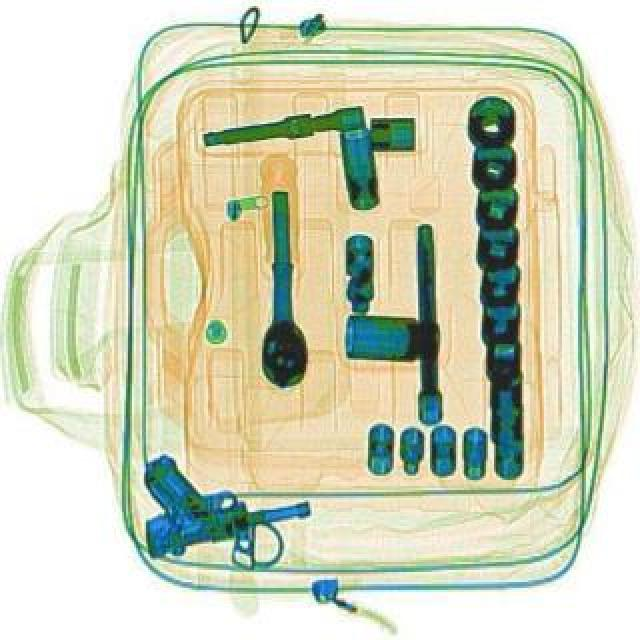gun: (116, 424, 312, 568)
